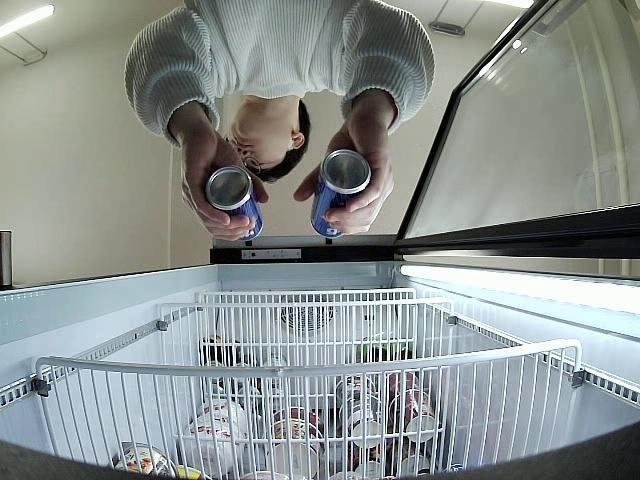16_hot6: (310, 151, 373, 236), (206, 166, 262, 239)
